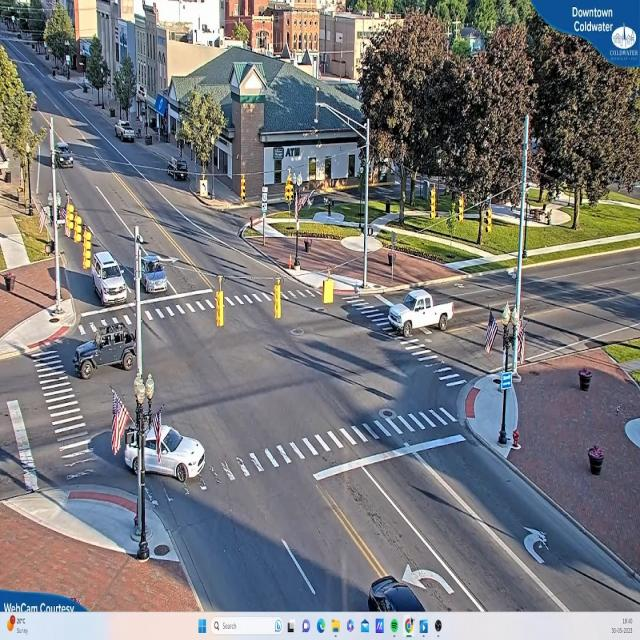car: (125, 414, 204, 476), (385, 286, 457, 345), (74, 323, 136, 385), (92, 255, 128, 306), (140, 252, 171, 297), (53, 140, 73, 170), (164, 157, 190, 180), (116, 124, 136, 142)
